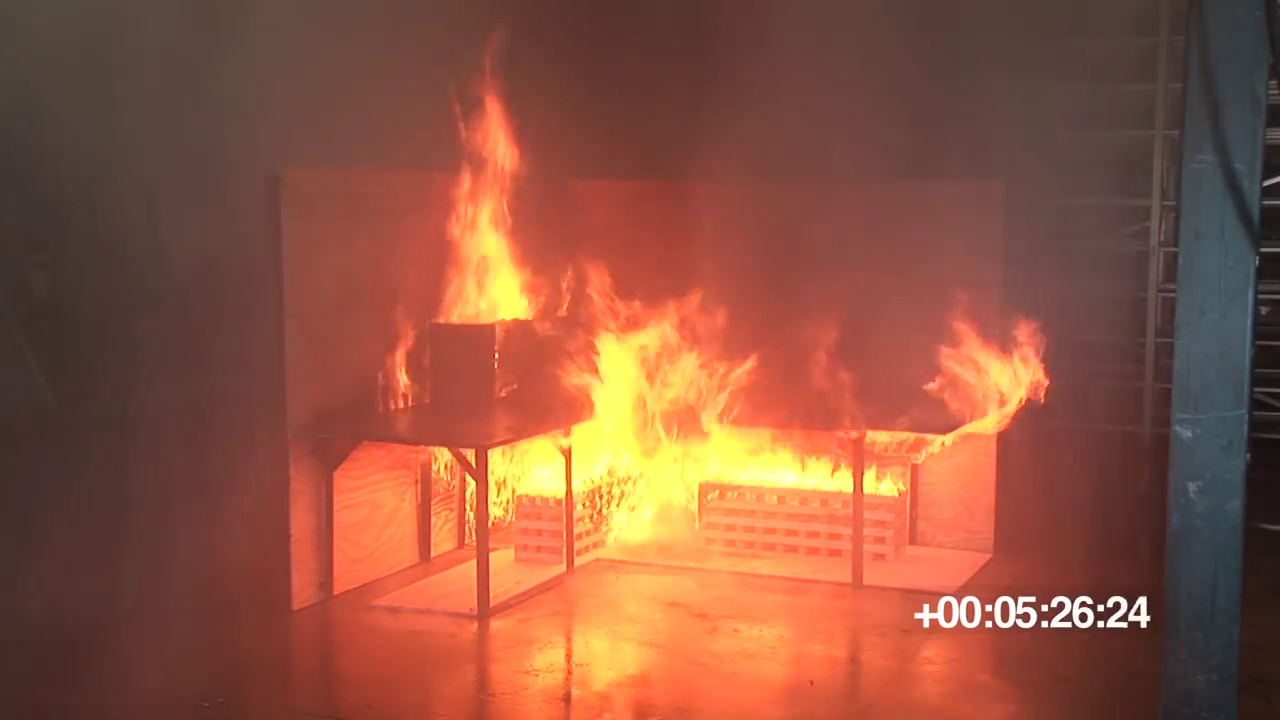fire: (569, 294, 746, 484), (440, 91, 528, 316), (930, 318, 1046, 435), (762, 451, 902, 490), (488, 448, 564, 492)
